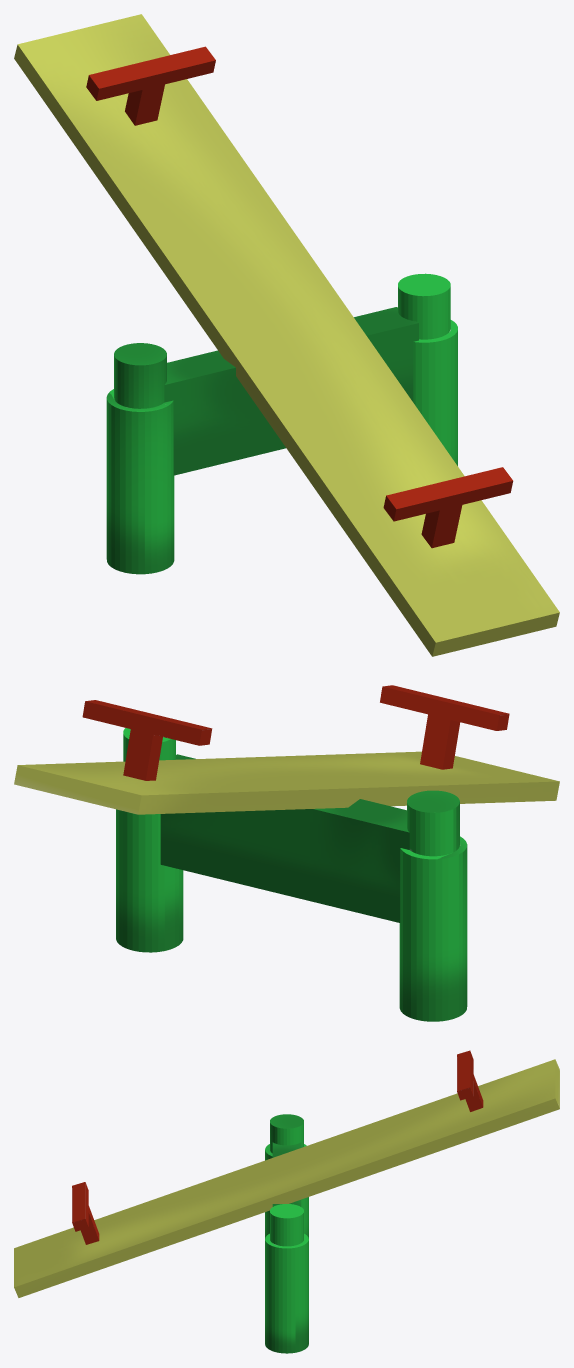
Rendered from SubeBaja_prefab.fbx.
3 renders of one model, top to bottom at view 1: azimuth 30°, elevation 25°; view 2: azimuth 150°, elevation 25°; view 3: azimuth 270°, elevation 25°, orthographic. The views are drawn at different scales.
Visible parts, largest first — view 1: Cube.001, Cylinder, Cube, Cylinder.001, Cube.003, Cube.004; view 2: Cube.001, Cube, Cylinder, Cylinder.001, Cube.003, Cube.004; view 3: Cube.001, Cylinder.001, Cylinder, Cube.003, Cube.004.
Part boxes in pixels (x1,y1,x2,y2): Cube.001: (14, 14, 559, 656); Cylinder: (106, 343, 174, 574); Cube: (164, 307, 418, 475); Cylinder.001: (398, 273, 457, 465); Cube.003: (383, 467, 513, 548); Cube.004: (86, 46, 215, 125); Cube.001: (14, 751, 559, 814); Cube: (160, 754, 409, 922); Cylinder: (399, 790, 467, 1021); Cylinder.001: (116, 728, 183, 952); Cube.003: (380, 685, 509, 769); Cube.004: (82, 700, 212, 780); Cube.001: (14, 1059, 559, 1297); Cylinder.001: (265, 1204, 308, 1353); Cylinder: (265, 1114, 308, 1238); Cube.003: (72, 1182, 99, 1244); Cube.004: (457, 1050, 483, 1111).
Bounding box in the file's own units: 343 × 345 × 733.
Materials: 6 (6 with a texture image).
